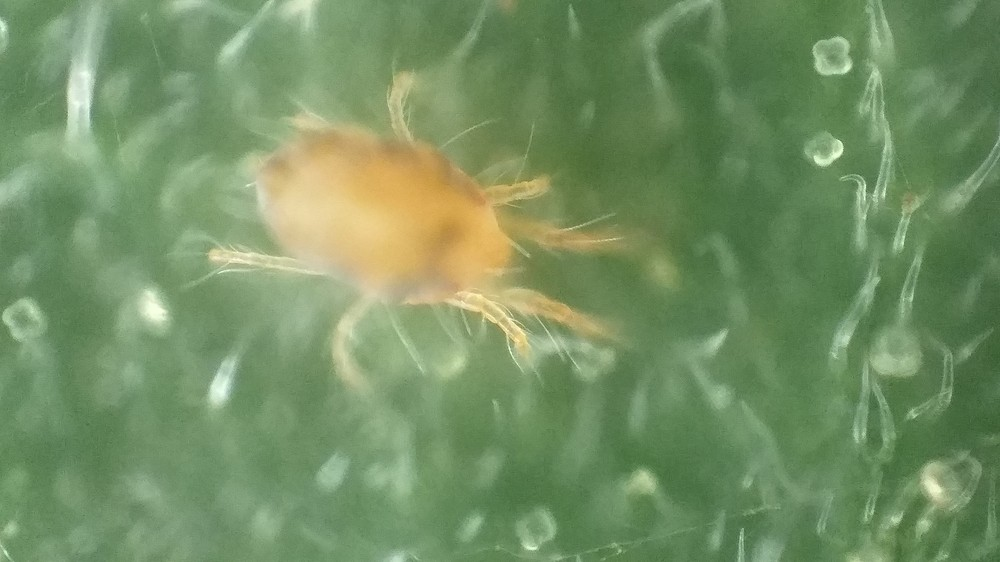Aracnido Rojo: (218, 80, 646, 403)
